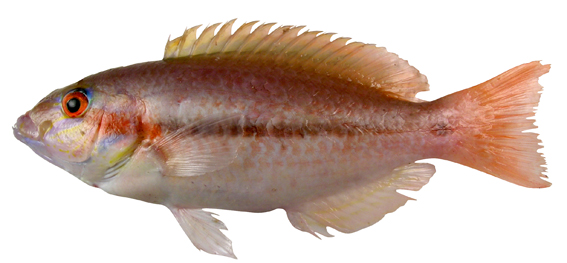fish: (13, 20, 550, 260)
